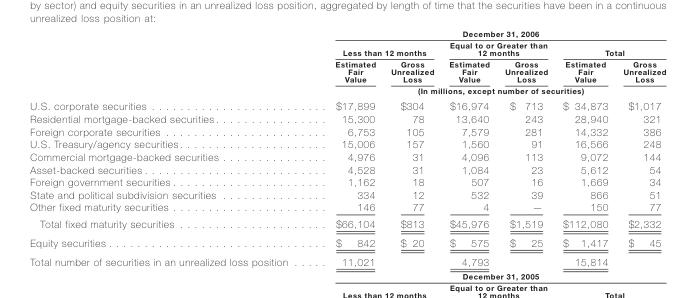table: (29, 28, 665, 266)
table column: (29, 28, 310, 266), (310, 28, 382, 266), (554, 28, 614, 266), (382, 28, 440, 266), (496, 28, 554, 266), (440, 28, 496, 266), (614, 28, 665, 266)
table column header: (29, 28, 665, 97)
table row: (29, 57, 665, 84), (29, 38, 665, 57), (29, 232, 665, 251), (29, 215, 665, 232), (29, 97, 665, 112), (29, 200, 665, 215), (29, 251, 665, 266), (29, 84, 665, 97), (29, 124, 665, 137), (29, 137, 665, 150), (29, 162, 665, 175), (29, 187, 665, 200), (29, 112, 665, 124), (29, 150, 665, 162), (29, 175, 665, 187), (29, 28, 665, 38)
table spanning cell: (310, 84, 665, 97), (310, 28, 665, 38), (310, 38, 440, 57), (440, 38, 554, 57), (554, 38, 665, 57)
